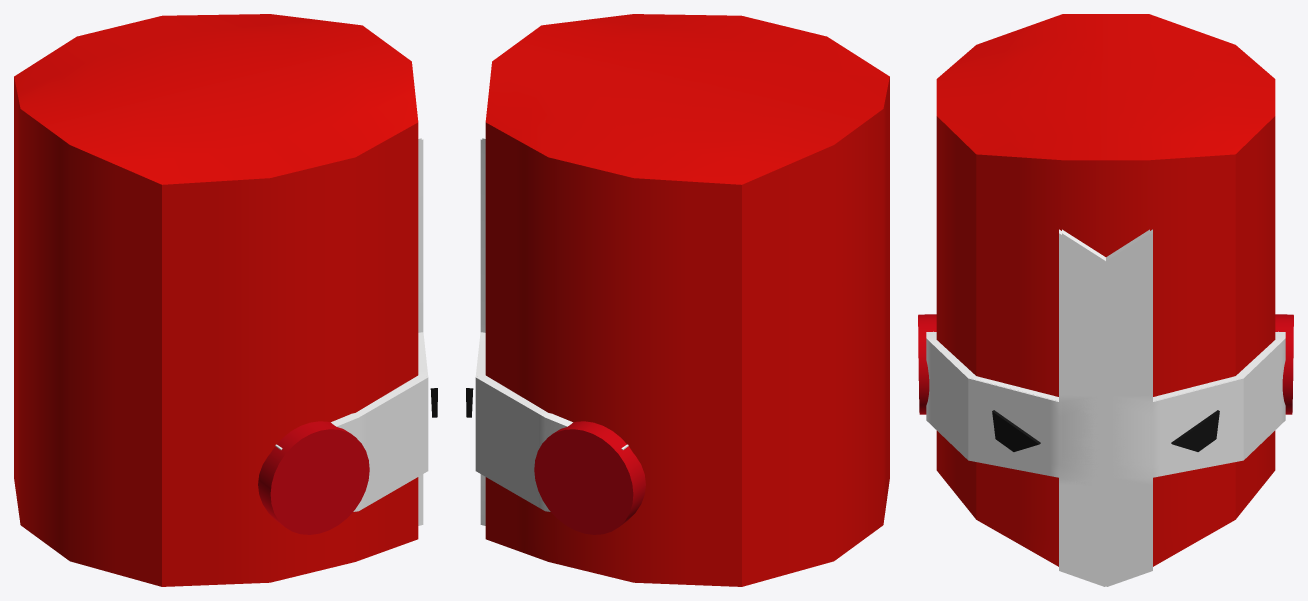
Rendered from Stronghold_Smasher.fbx.
3 views of the same model, side by side, from view 1: azimuth 30°, elevation 25°; view 2: azimuth 150°, elevation 25°; view 3: azimuth 270°, elevation 25° (orthographic). The views are drawn at different scales.
Parts seen in each view (by area): view 1: CastleCrasher; view 2: CastleCrasher; view 3: CastleCrasher.
Part boxes in pixels (<box>): CastleCrasher: <box>14,14,437,586</box>; CastleCrasher: <box>466,14,889,586</box>; CastleCrasher: <box>918,14,1293,586</box>.
Size of the model in its own units: 275 by 360 by 290.
